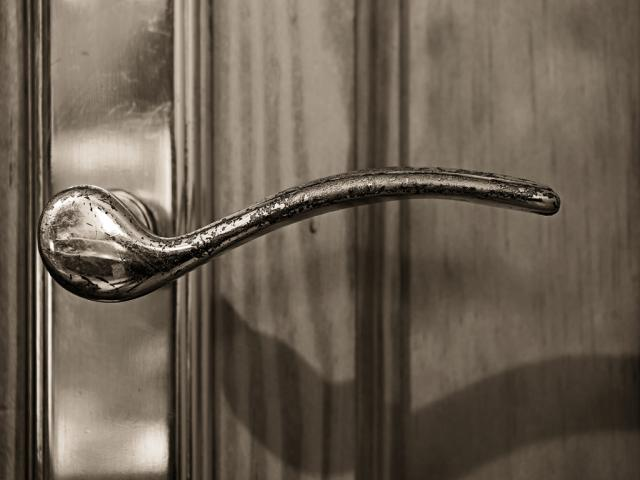Door-handle: (26, 0, 560, 480)
